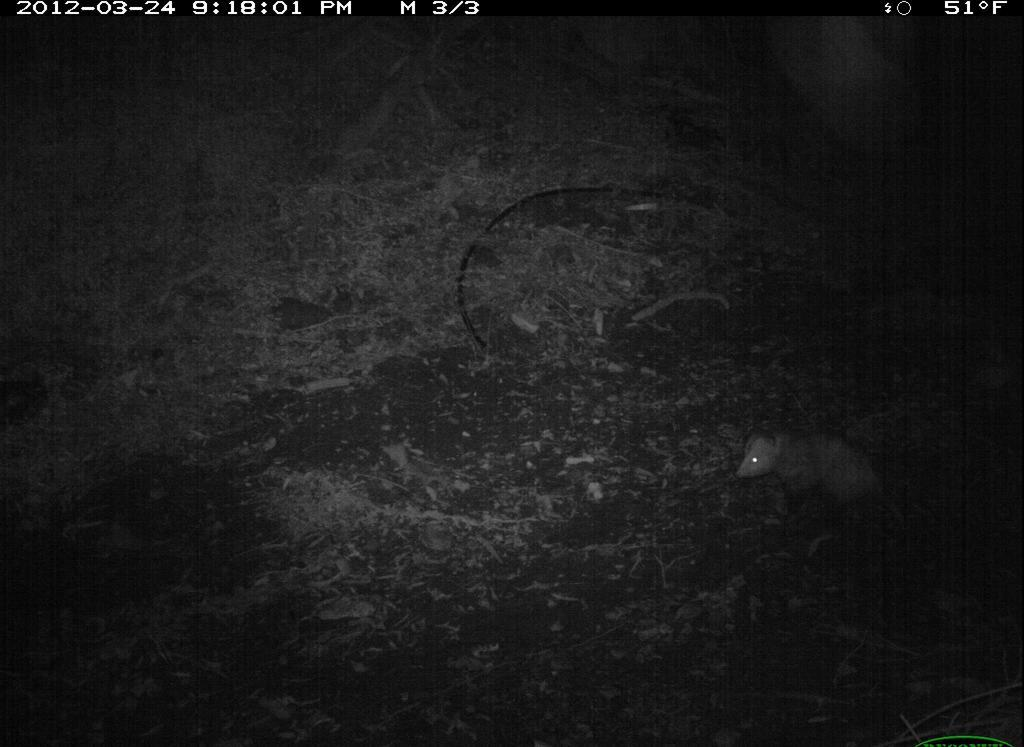opossum: (724, 407, 919, 538)
